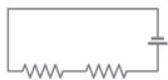Battery: (142, 29, 166, 53)
